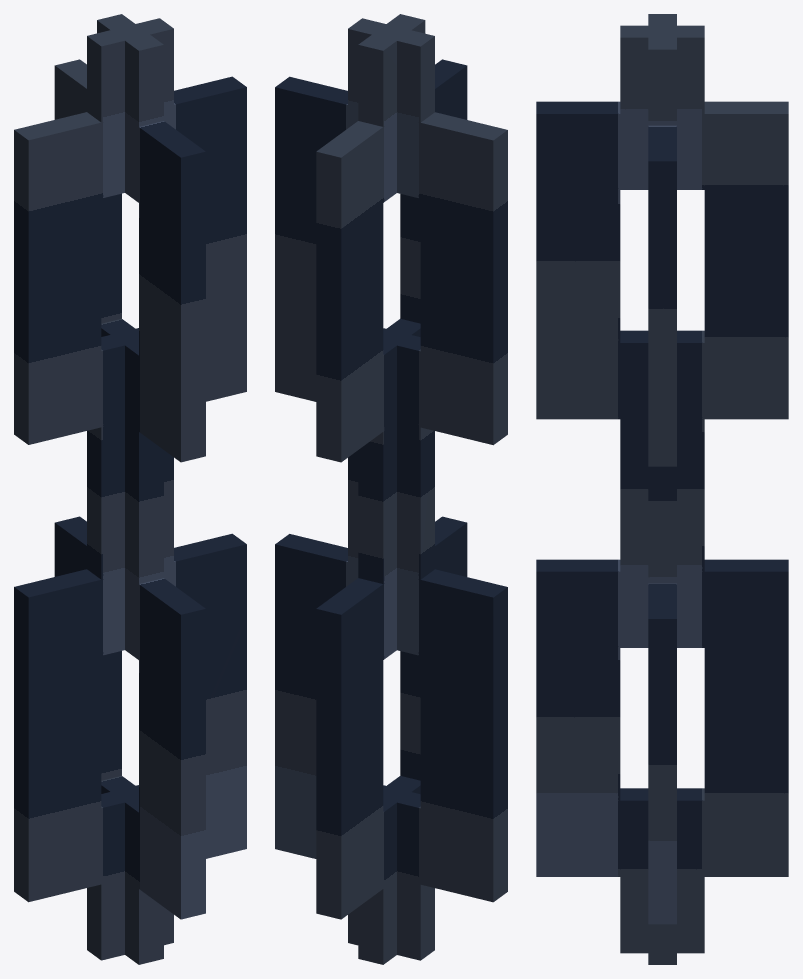
File: chain.fbx
3 views of the same model, side by side, from view 1: azimuth 30°, elevation 25°; view 2: azimuth 150°, elevation 25°; view 3: azimuth 270°, elevation 25° (orthographic).
Bounding box in the file's own units: 37.49 × 150 × 37.49.
